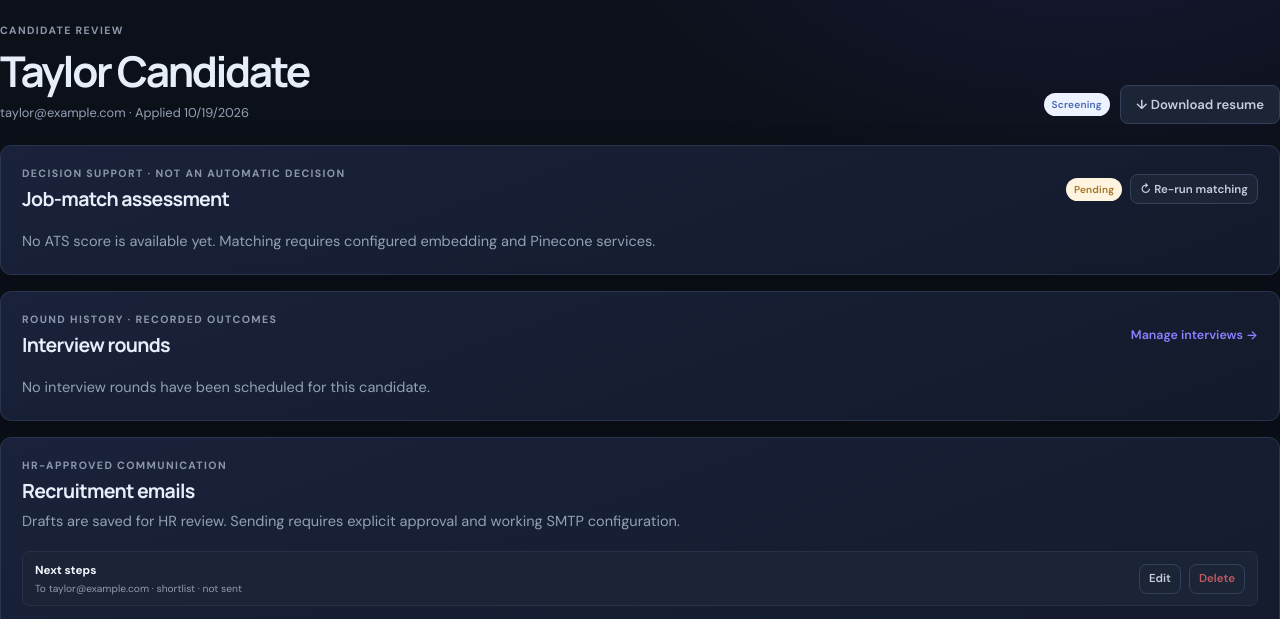
Test case: CandidateDetailPage email lifecycle › reopens and saves an existing unsent draft
Click the button "Edit" at (1160, 579), box [1139,564,1181,594]
(page scrolled)
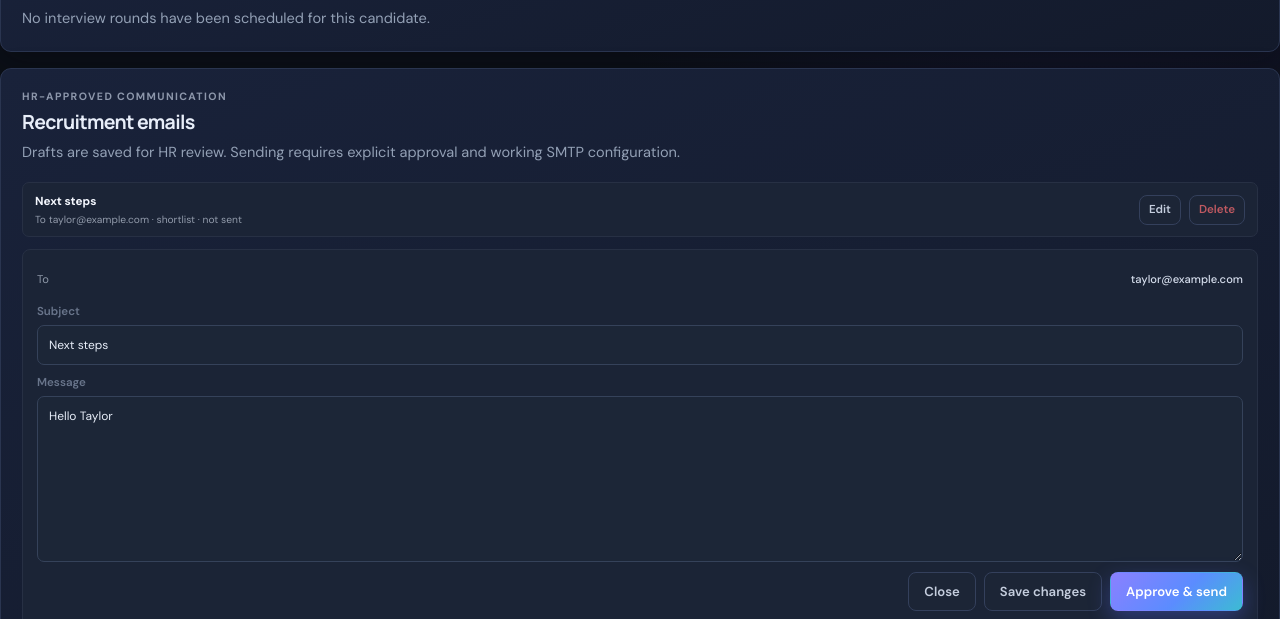
Replace the text in the field labelled "Subject" with "Revised next steps" at (640, 345), box [37,325,1243,365]
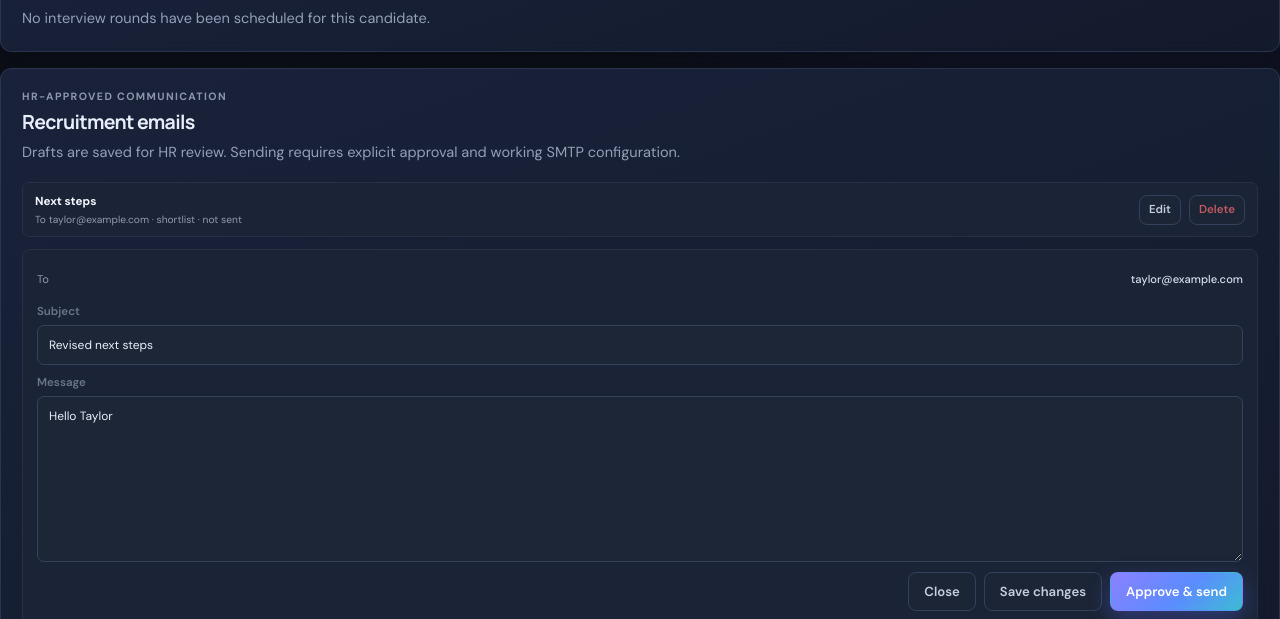
Replace the text in the text box labelled "Message" with "Updated message." at (640, 479), box [37,396,1243,562]
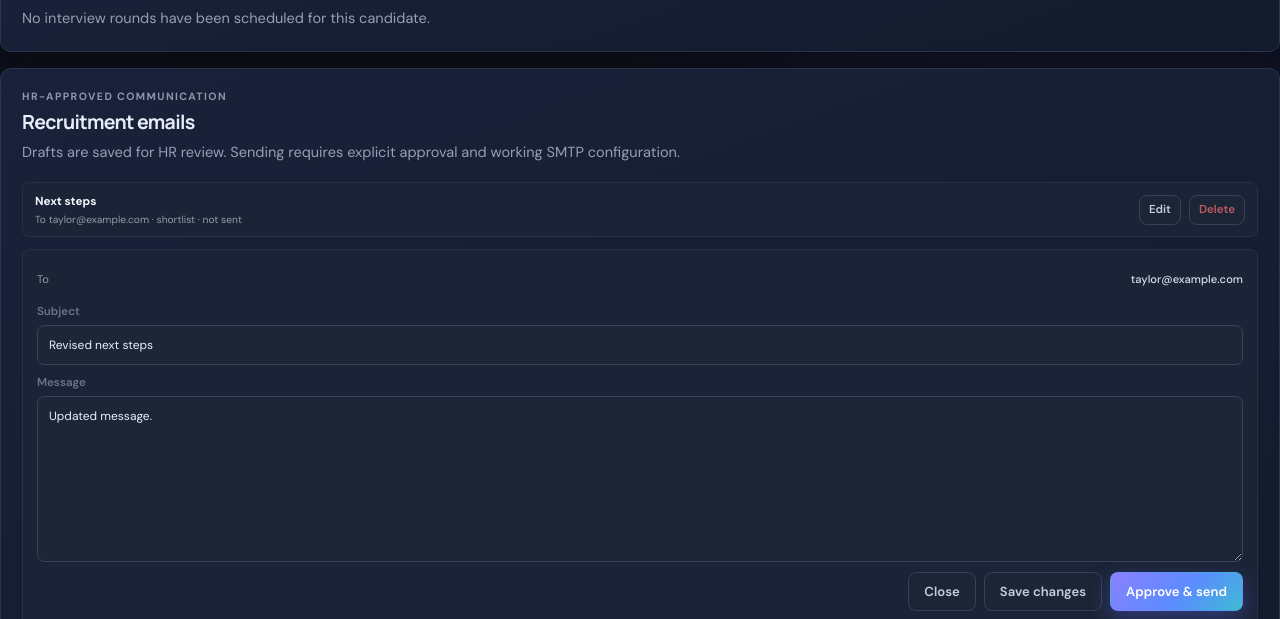
Click the button "Save changes" at (1043, 592), box [984,572,1102,611]
(page scrolled)
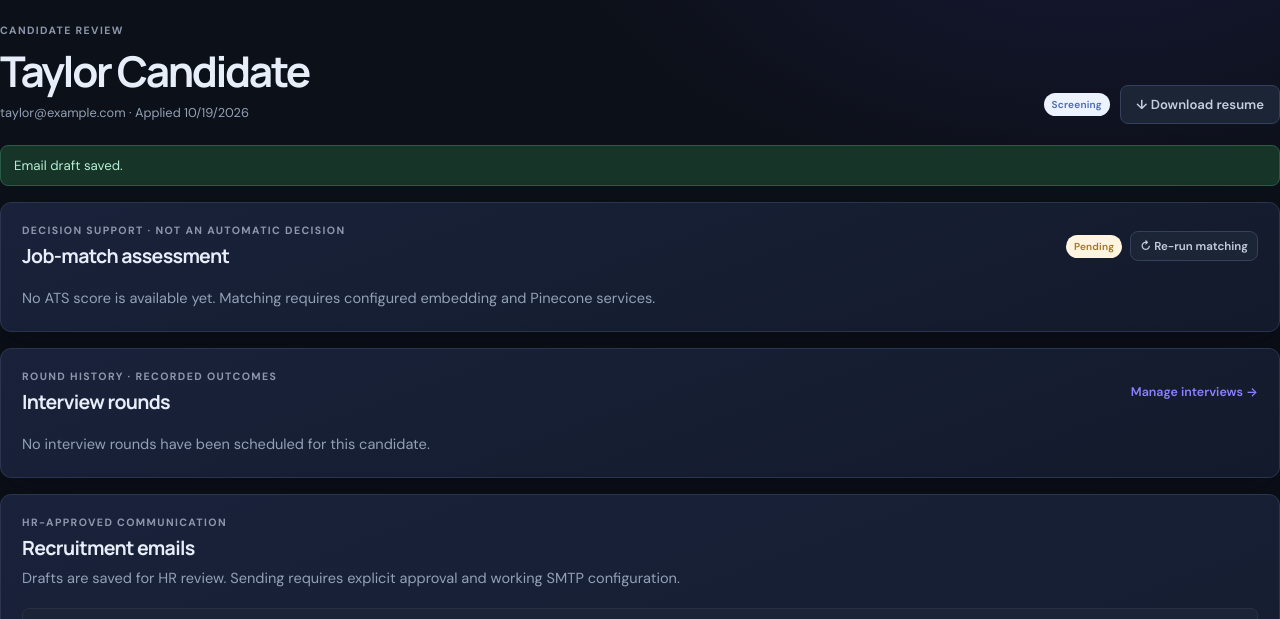
Result: the text "Email draft saved." is shown at [0,144,1279,186]
